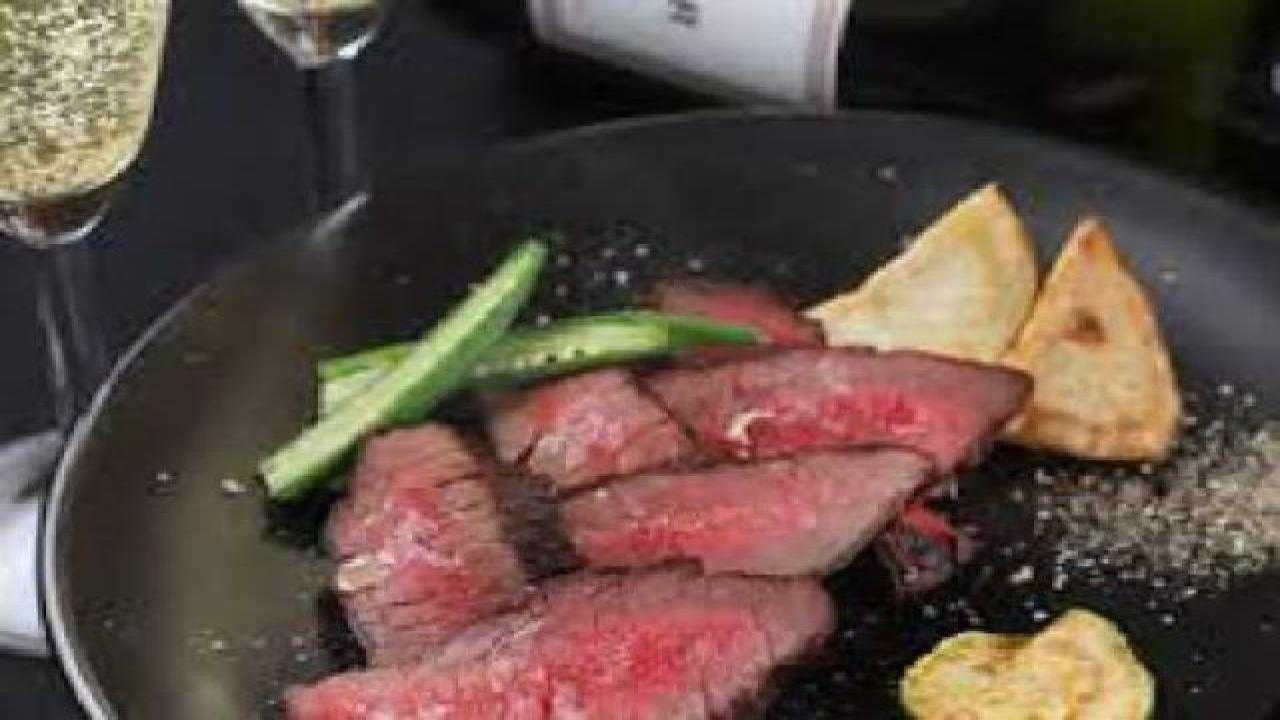Carne: (240, 339, 1014, 706)
